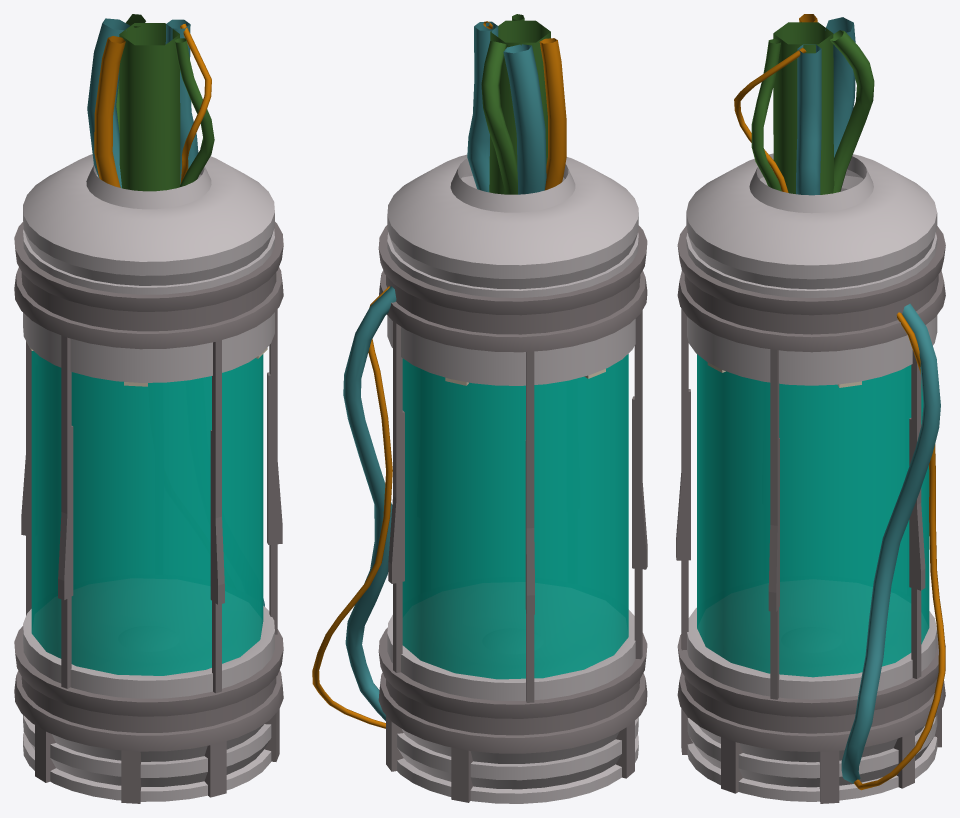
The picture shows the model from 3 angles, left to right: view 1: azimuth 30°, elevation 25°; view 2: azimuth 150°, elevation 25°; view 3: azimuth 270°, elevation 25°; orthographic projection.
Visible parts, largest first — view 1: Capsule, Tubes; view 2: Capsule, Tubes; view 3: Capsule, Tubes.
Boxes of the visible parts, box(x1,y1,x2,y2) form: Capsule: box(14, 152, 283, 803); Tubes: box(87, 14, 214, 191); Capsule: box(312, 154, 647, 803); Tubes: box(467, 14, 566, 194); Capsule: box(676, 153, 945, 803); Tubes: box(734, 14, 874, 195).
Bounding box in the file's own units: 162 × 424 × 144.
